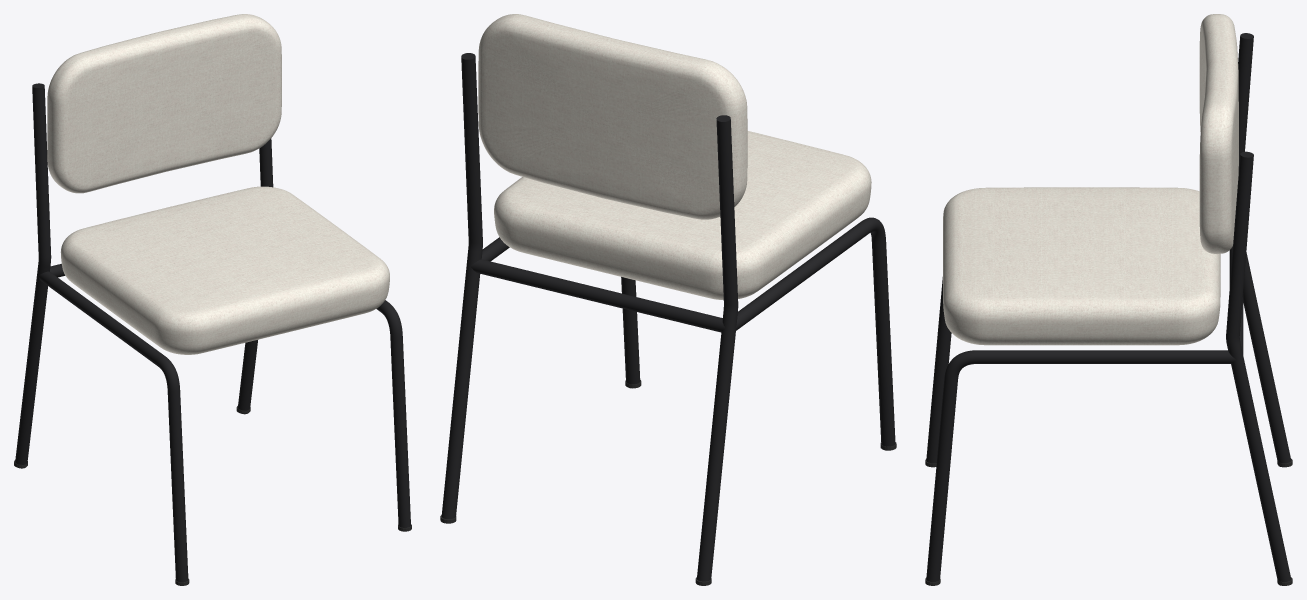
The model's file is chair_singel_cream.glb.
3 renders of one model, left to right at view 1: azimuth 30°, elevation 25°; view 2: azimuth 150°, elevation 25°; view 3: azimuth 270°, elevation 25°, orthographic. The views are drawn at different scales.
Visible parts, largest first — view 1: chair_singel_cream; view 2: chair_singel_cream; view 3: chair_singel_cream.
Boxes of the visible parts, x1,y1,x2,y2 form: chair_singel_cream: (14,14,411,585); chair_singel_cream: (440,14,896,585); chair_singel_cream: (925,14,1292,585).
Bounding box in the file's own units: 0.4514 × 0.7819 × 0.5604.
Materials: 3 (1 with a texture image).
